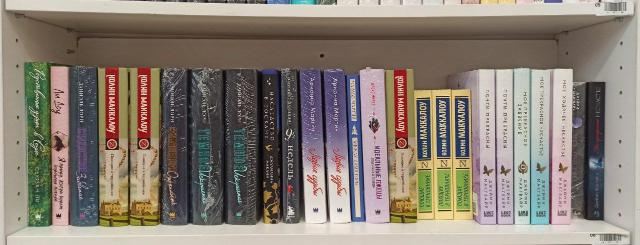book-s-spine: (386, 69, 417, 223), (98, 68, 128, 227), (130, 68, 160, 226), (192, 69, 222, 225), (226, 70, 256, 225), (360, 69, 389, 223), (70, 68, 98, 227), (324, 70, 351, 223), (300, 69, 326, 224), (25, 62, 49, 227), (163, 69, 187, 226), (552, 69, 572, 225), (531, 70, 550, 225), (281, 69, 299, 223), (432, 90, 453, 220), (51, 67, 68, 226), (479, 70, 496, 225), (452, 90, 472, 220), (414, 90, 434, 219), (347, 75, 364, 222), (497, 70, 513, 225), (571, 83, 589, 220), (262, 70, 278, 224), (588, 82, 605, 221), (515, 69, 530, 225)
